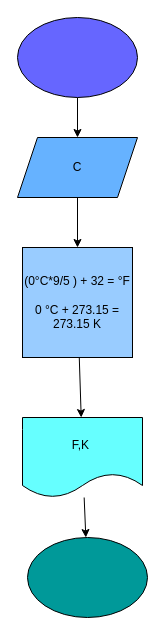
Some shapes in this 165 by 635 pixel diagram are drawn without their labels. Here are the shapes that lost their labels. From the top down, the centre of each, then its label:
the point at 77,57: INICIO
the point at 87,577: FIN
